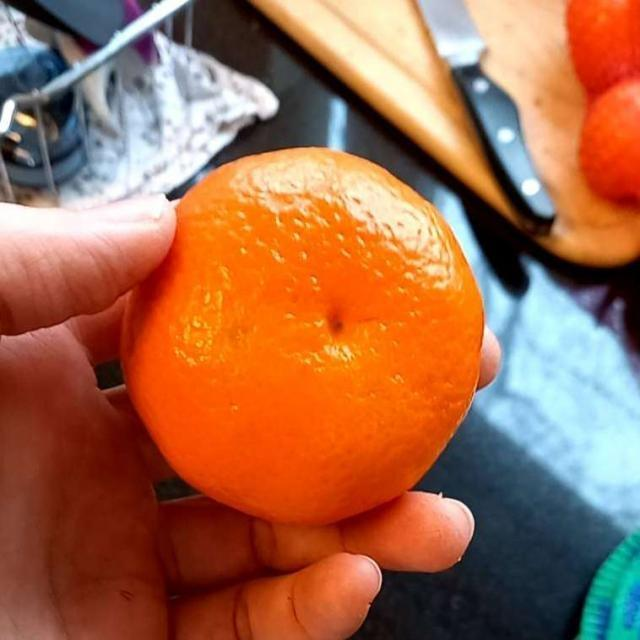mandarine: (129, 157, 488, 526)
